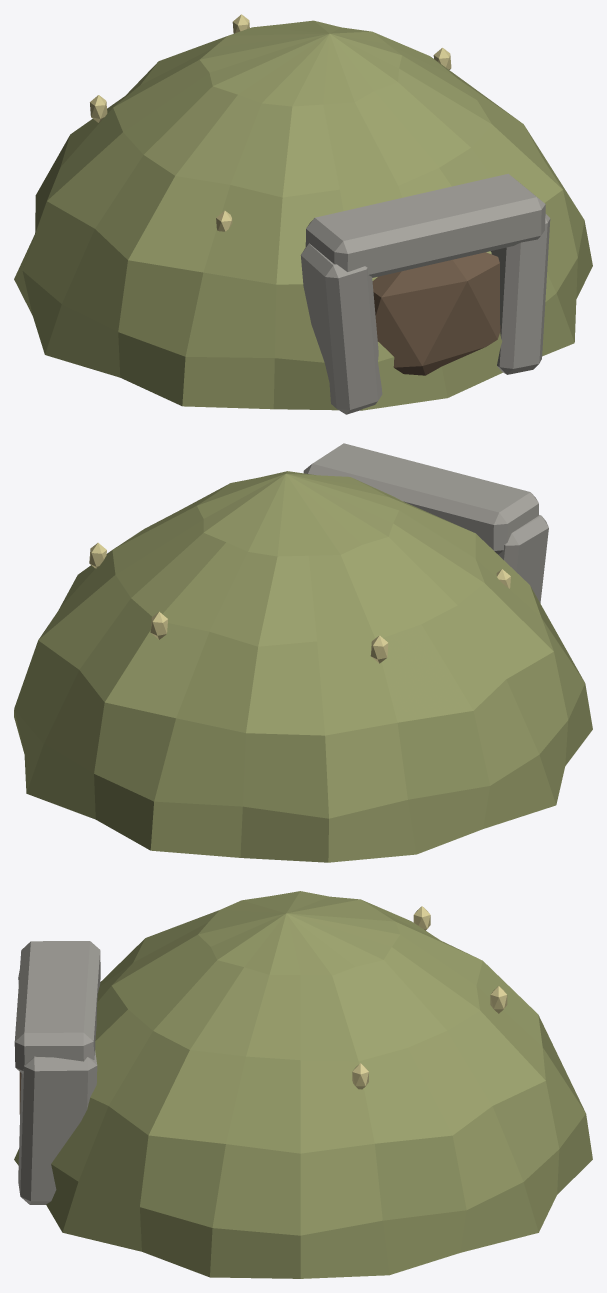
File: kurgan.glb
The picture shows the model from 3 angles, top to bottom: view 1: azimuth 30°, elevation 25°; view 2: azimuth 150°, elevation 25°; view 3: azimuth 270°, elevation 25°; orthographic projection.
Visible parts, largest first — view 1: kurgan; view 2: kurgan; view 3: kurgan.
Part boxes in pixels (x1,y1,x2,y2): kurgan: (14,14,592,414); kurgan: (14,443,592,862); kurgan: (14,891,592,1278).
Bounding box in the file's own units: 2.07 × 1.04 × 2.05.
